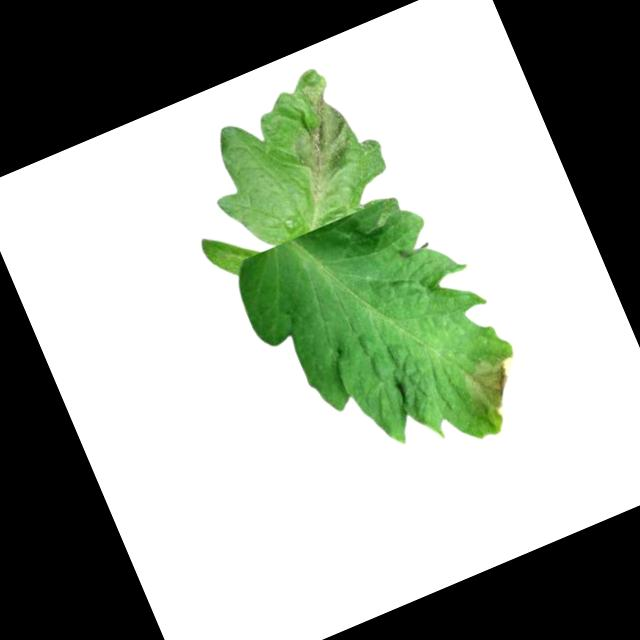Late_blight: (268, 71, 371, 194), (455, 345, 538, 427)
